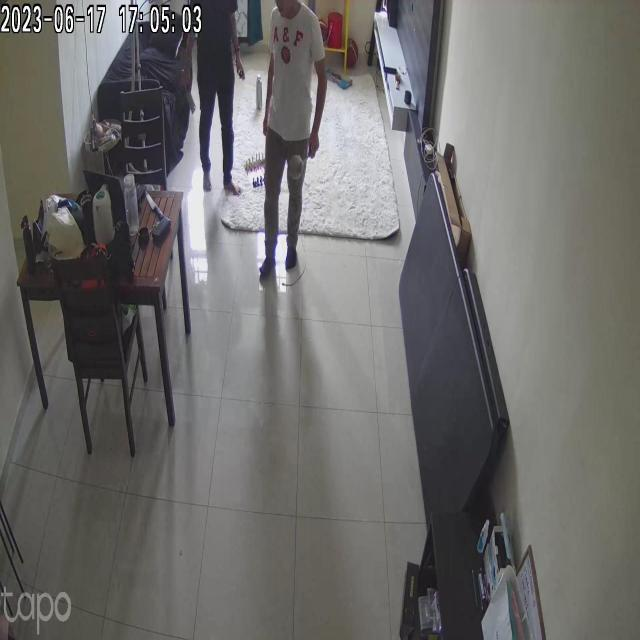Knife: (141, 187, 168, 219)
